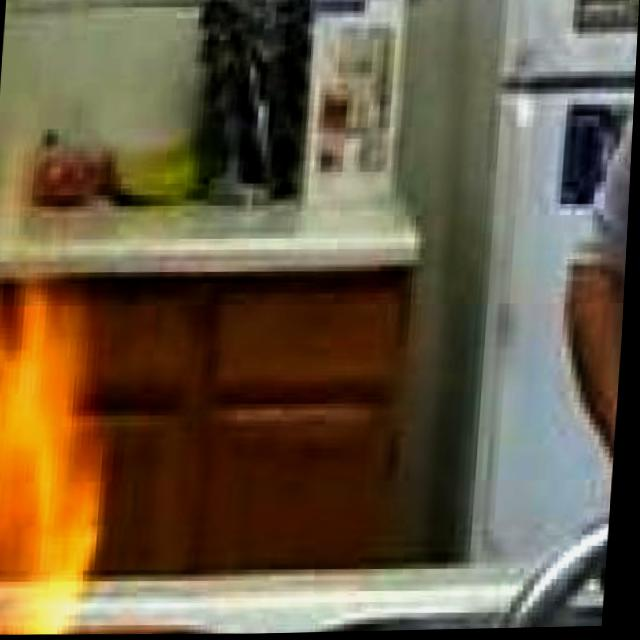fire: (0, 262, 225, 638)
